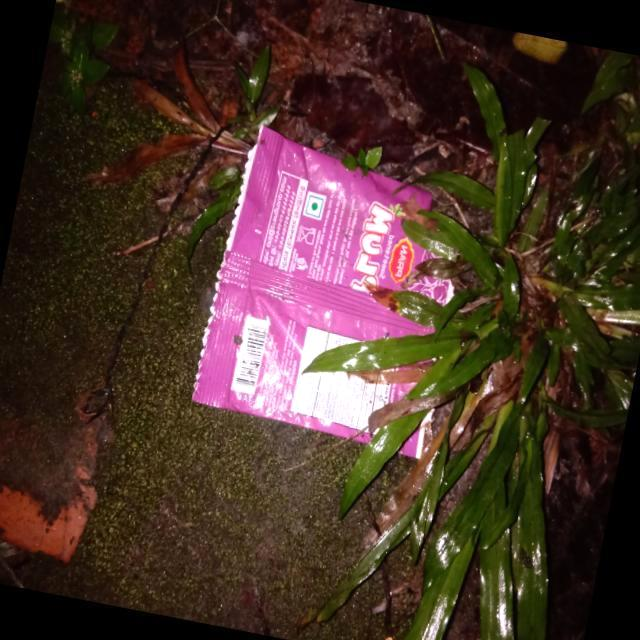packet: (190, 129, 507, 455)
